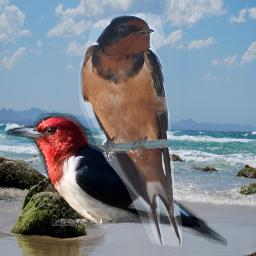Swallow: (79, 14, 182, 247)
Woodpecker: (2, 113, 227, 248)
